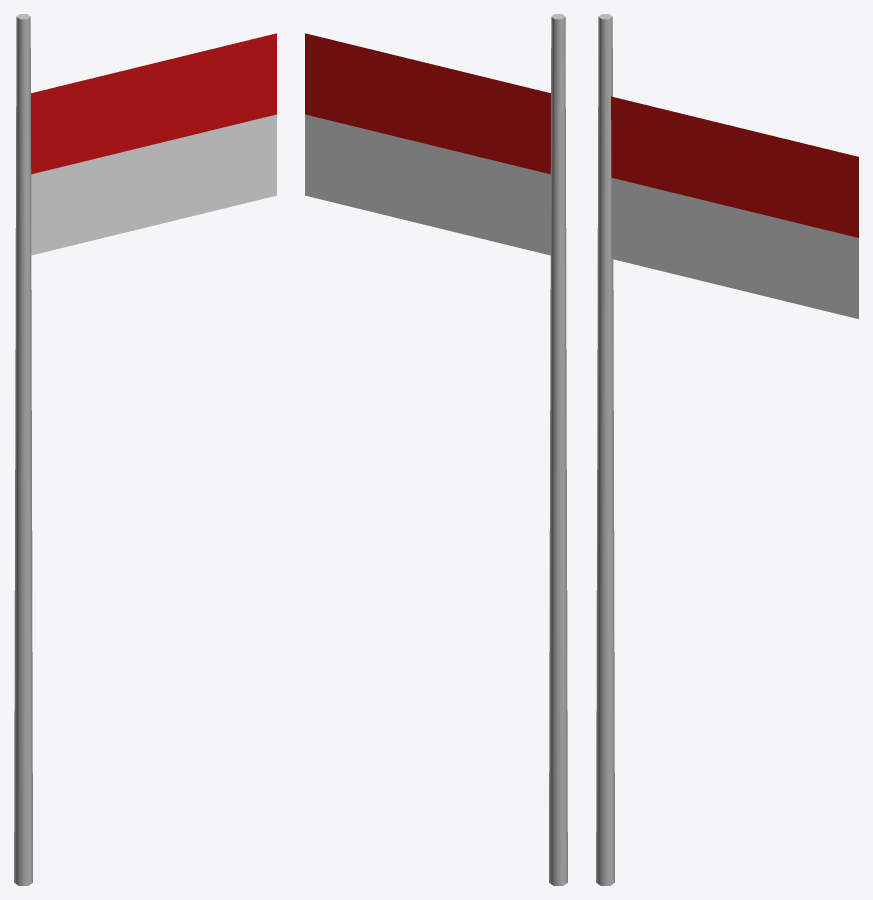
The model's file is bendera.glb.
3 renders of one model, left to right at view 1: azimuth 30°, elevation 25°; view 2: azimuth 150°, elevation 25°; view 3: azimuth 330°, elevation 25°, orthographic.
Size of the model in its own units: 2.52 by 8 by 0.16.
